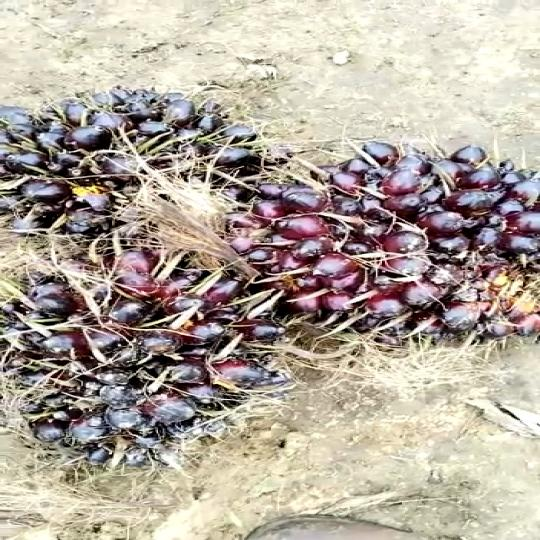mentah: (0, 253, 282, 470), (259, 139, 540, 344), (1, 81, 260, 264)
